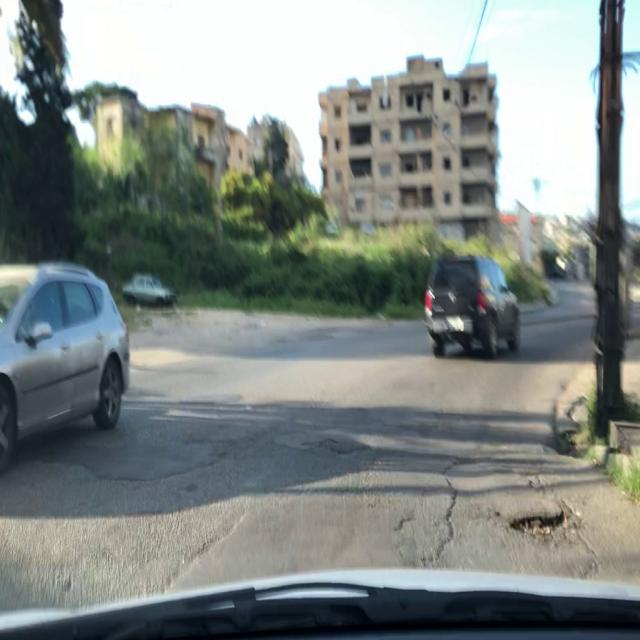Pothole: (504, 507, 584, 543)
